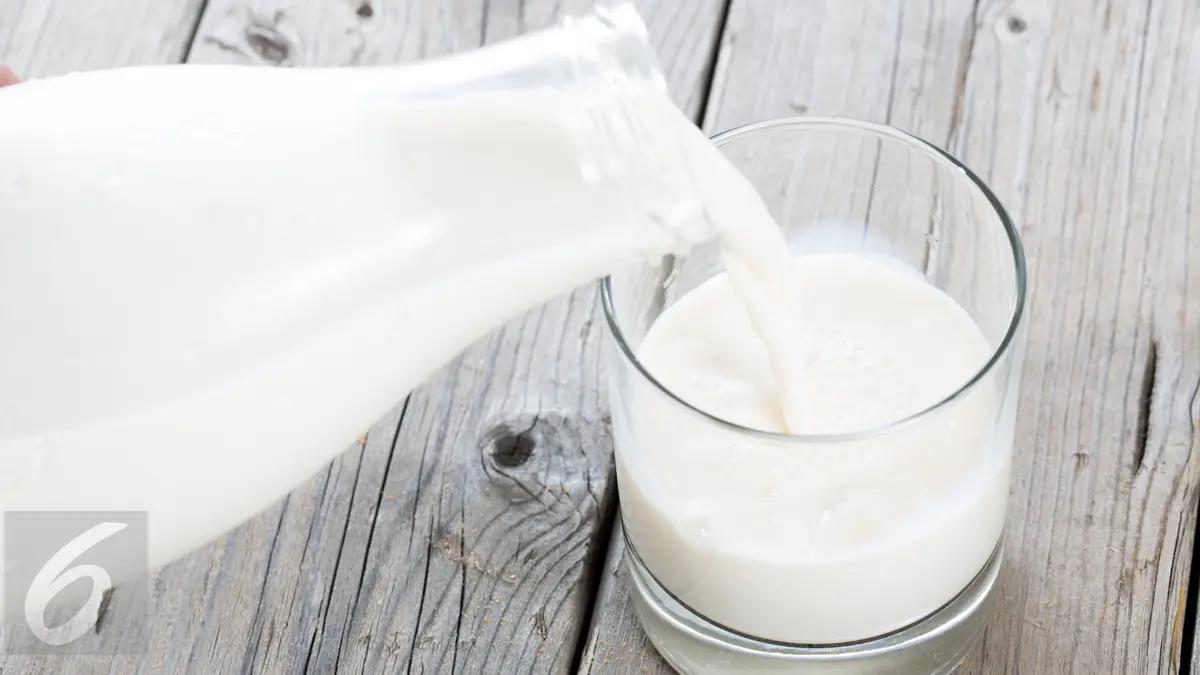produk_susu: (690, 187, 964, 610)
